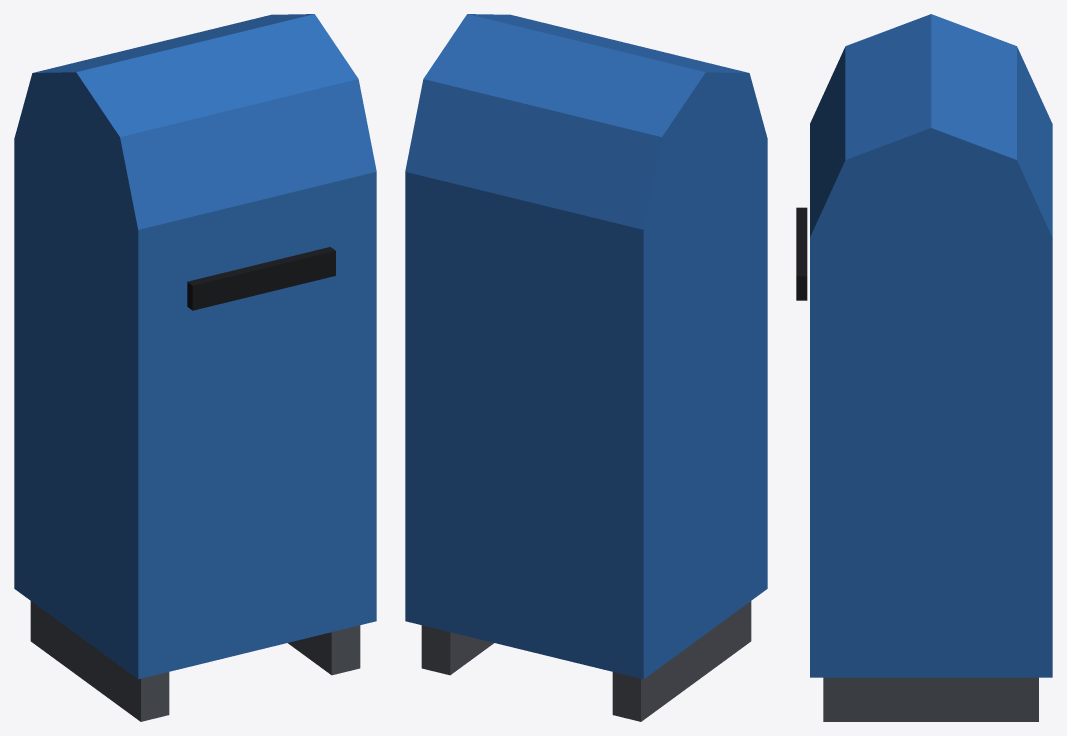
Rendered from mailbox.glb.
3 views of the same model, side by side, from view 1: azimuth 30°, elevation 25°; view 2: azimuth 150°, elevation 25°; view 3: azimuth 270°, elevation 25° (orthographic). The views are drawn at different scales.
Visible parts, largest first — view 1: mailbox; view 2: mailbox; view 3: mailbox.
Boxes of the visible parts, x1,y1,x2,y2 form: mailbox: (14,14,376,721); mailbox: (405,14,767,721); mailbox: (796,14,1052,721).
Bounding box in the file's own units: 0.5 × 1.23 × 0.475.
